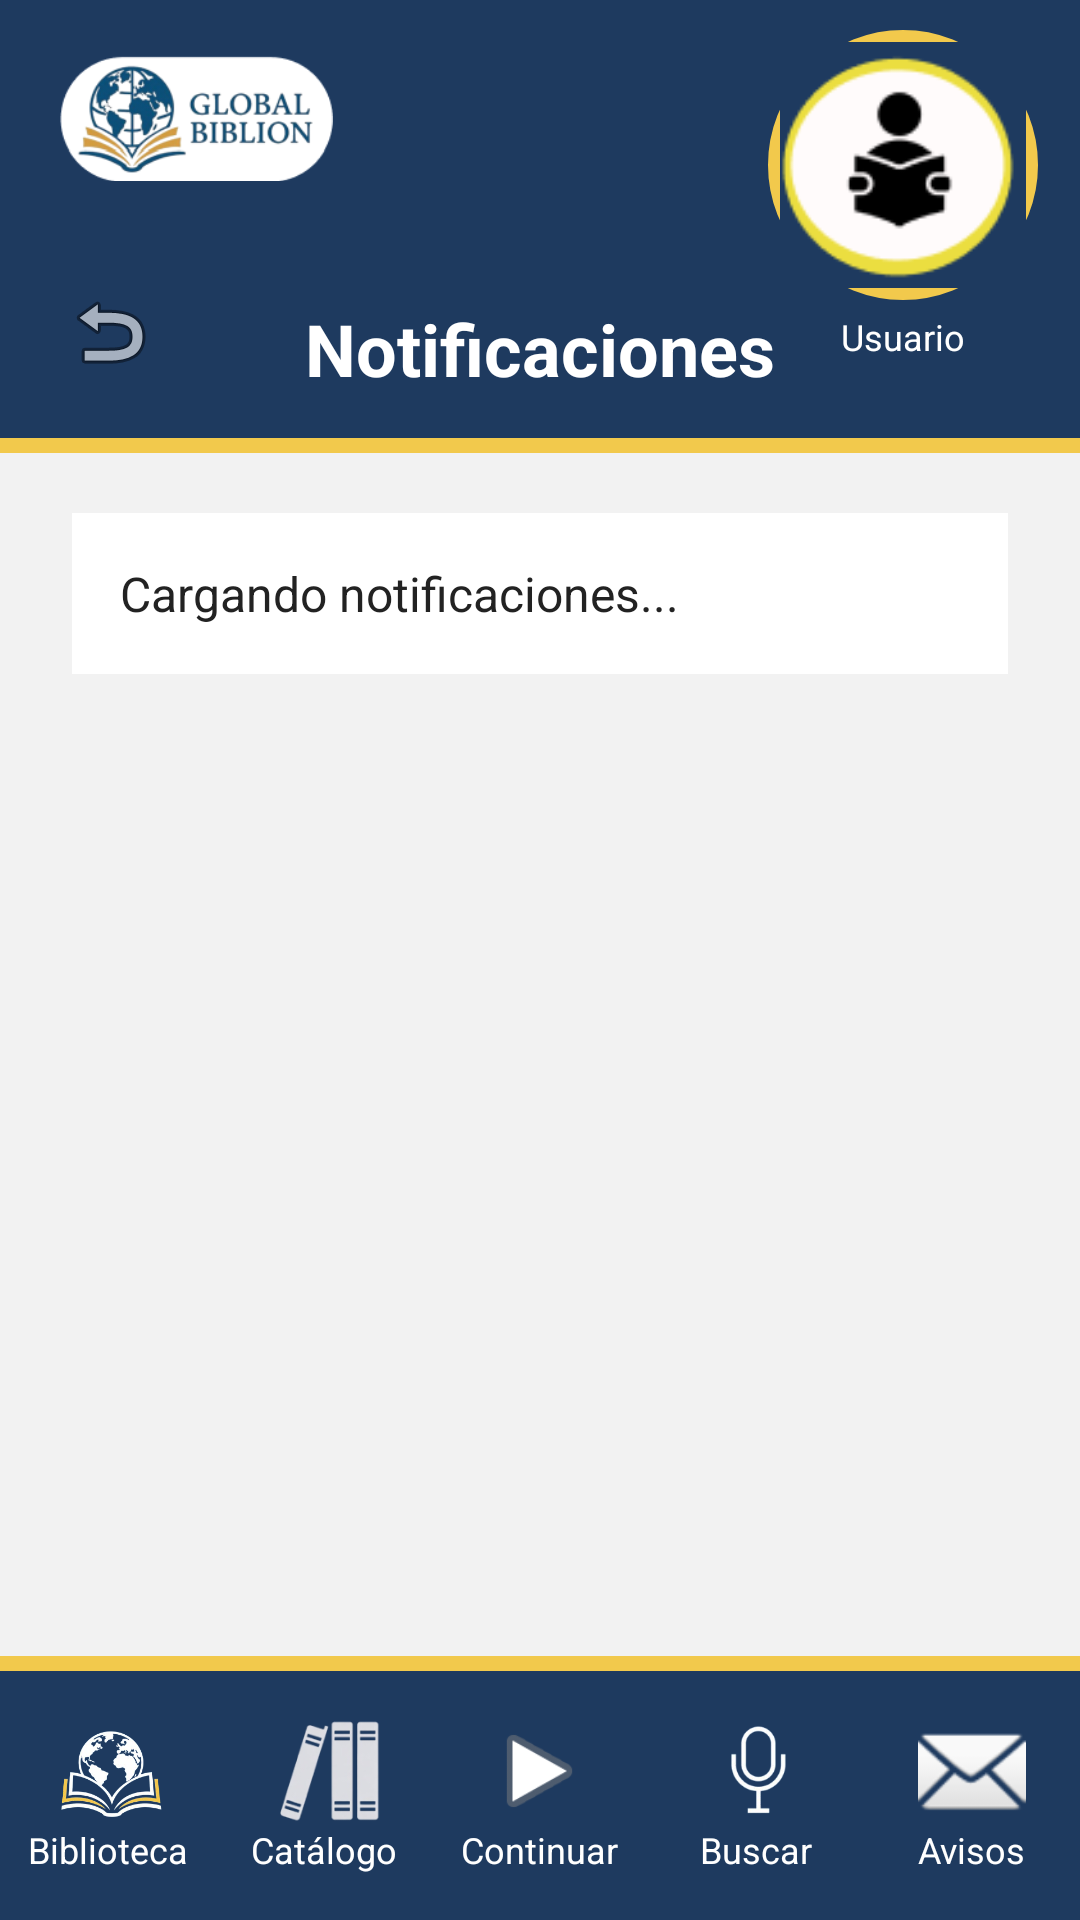

Named icons in this screenshot (1080px×1920px) and their bounding boxes, (x1, y1, x2, y2):
email: (918, 1734, 1026, 1810)
microfono: (731, 1726, 786, 1813)
Perfil: (782, 58, 1014, 277)
play: (507, 1735, 572, 1807)
Volver: (77, 302, 145, 364)
